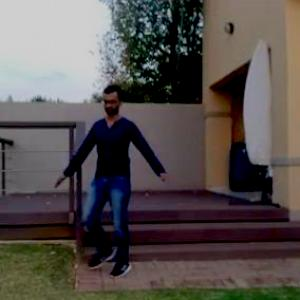land: (61, 98, 174, 282)
